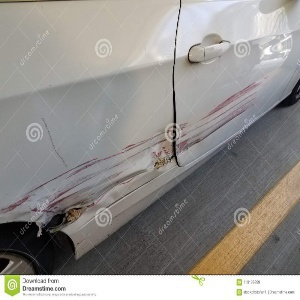door_scratch: (64, 78, 261, 178)
